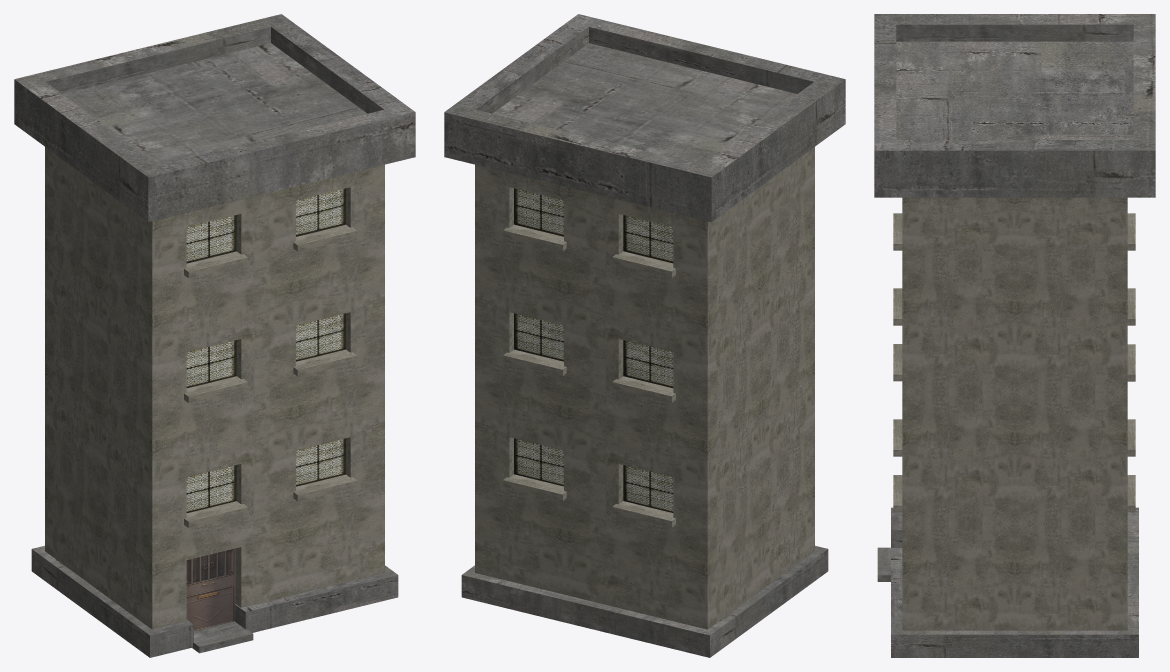
The model's file is Building04С1.fbx.
The picture shows the model from 3 angles, left to right: view 1: azimuth 30°, elevation 25°; view 2: azimuth 150°, elevation 25°; view 3: azimuth 270°, elevation 25°; orthographic projection. The views are drawn at different scales.
Visible parts, largest first — view 1: UB; view 2: UB; view 3: UB.
Boxes of the visible parts, <box> form: UB: <box>14,14,415,657</box>; UB: <box>444,14,845,657</box>; UB: <box>874,14,1155,657</box>.
Bounding box in the file's own units: 5.15 × 9.01 × 4.48.
